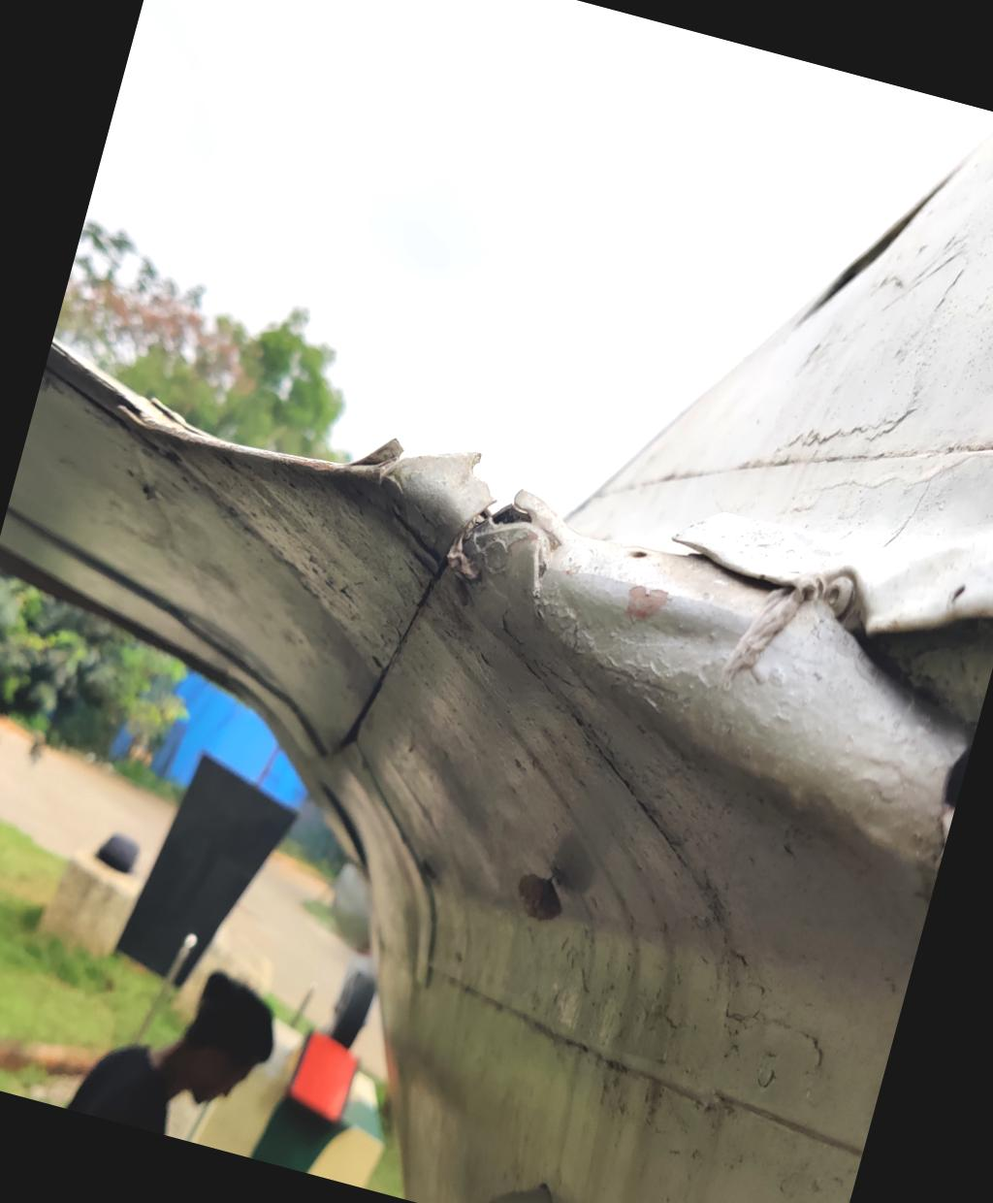crack: (310, 368, 502, 536), (433, 447, 581, 596)
